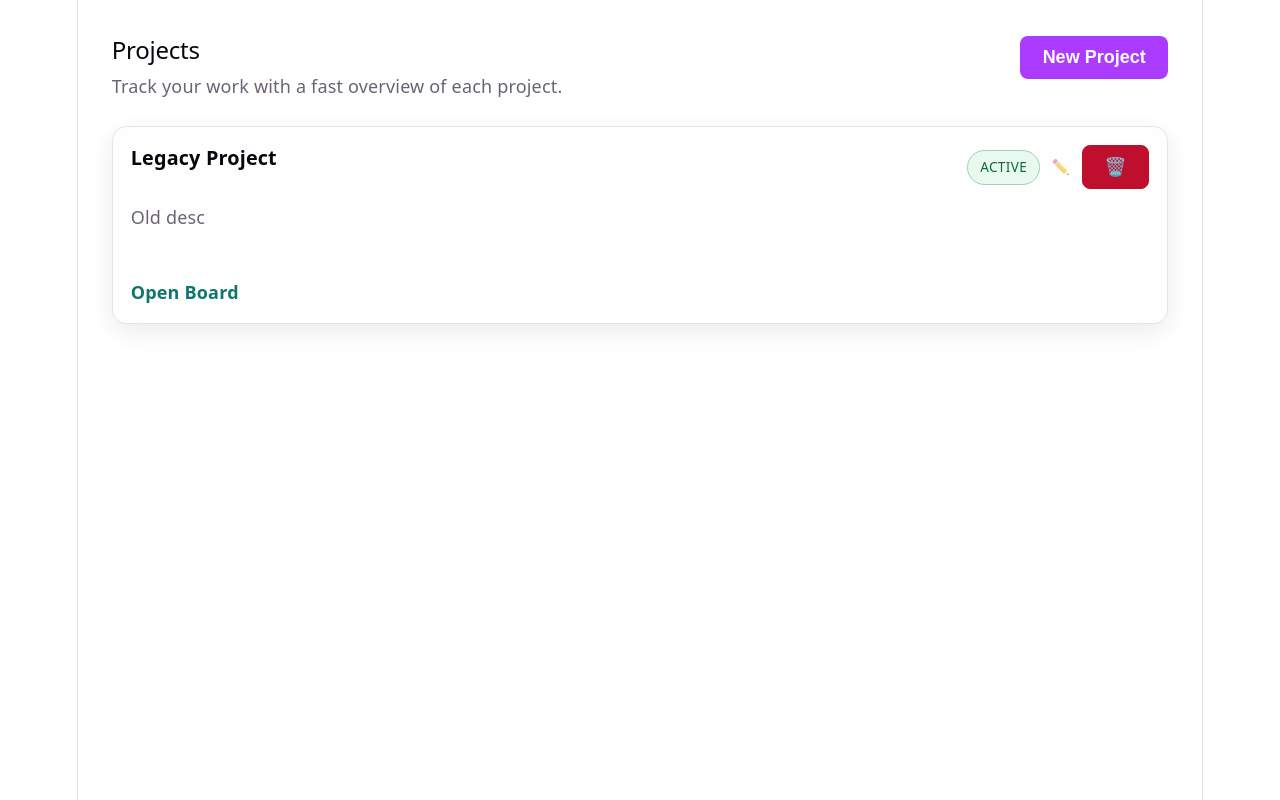
it: Dashboard › edits a project and updates the list
Expected: the heading "Legacy Project" is shown, 131,145 -> 277,172
Step 1. Click the button named "Edit Legacy Project" → [1061, 167], box 1047,157 -> 1074,177
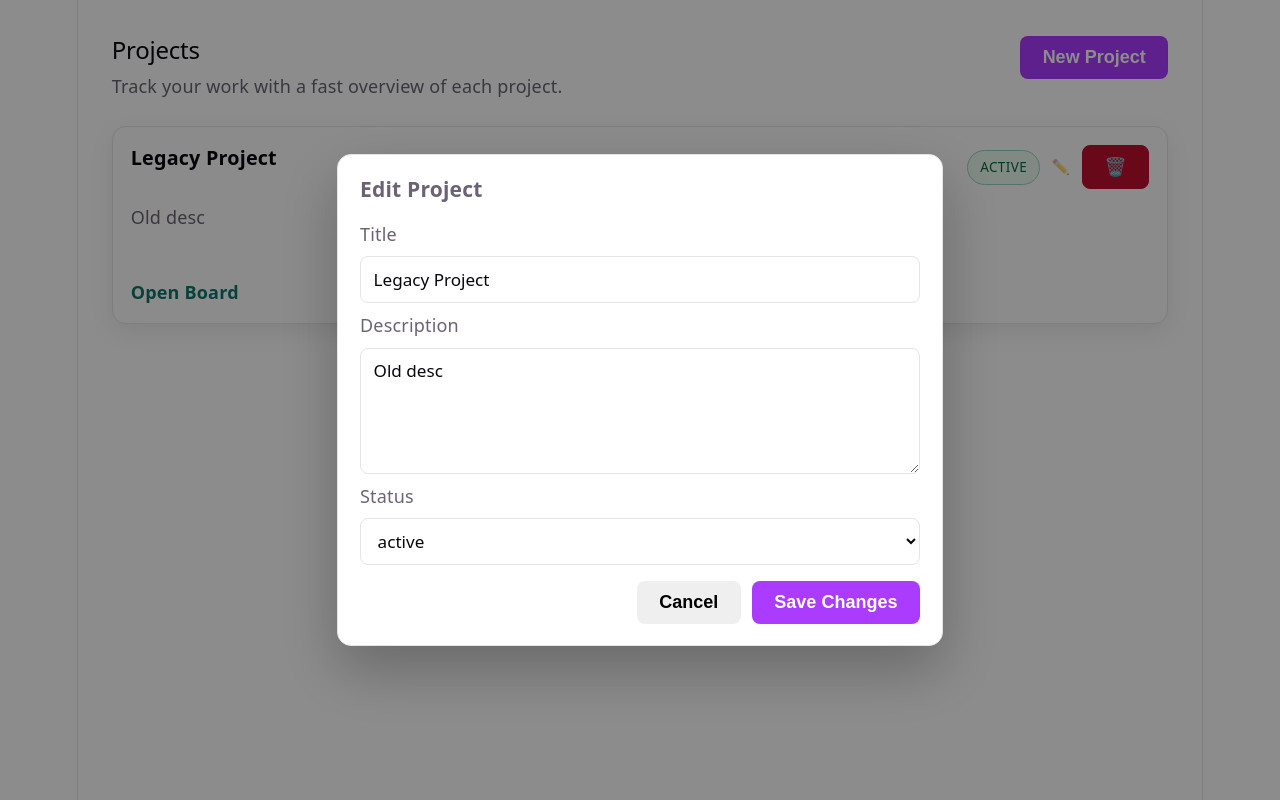
Step 2. Replace the text in the field labelled "Title" with "Updated Project" → [640, 280], box 360,256 -> 920,304
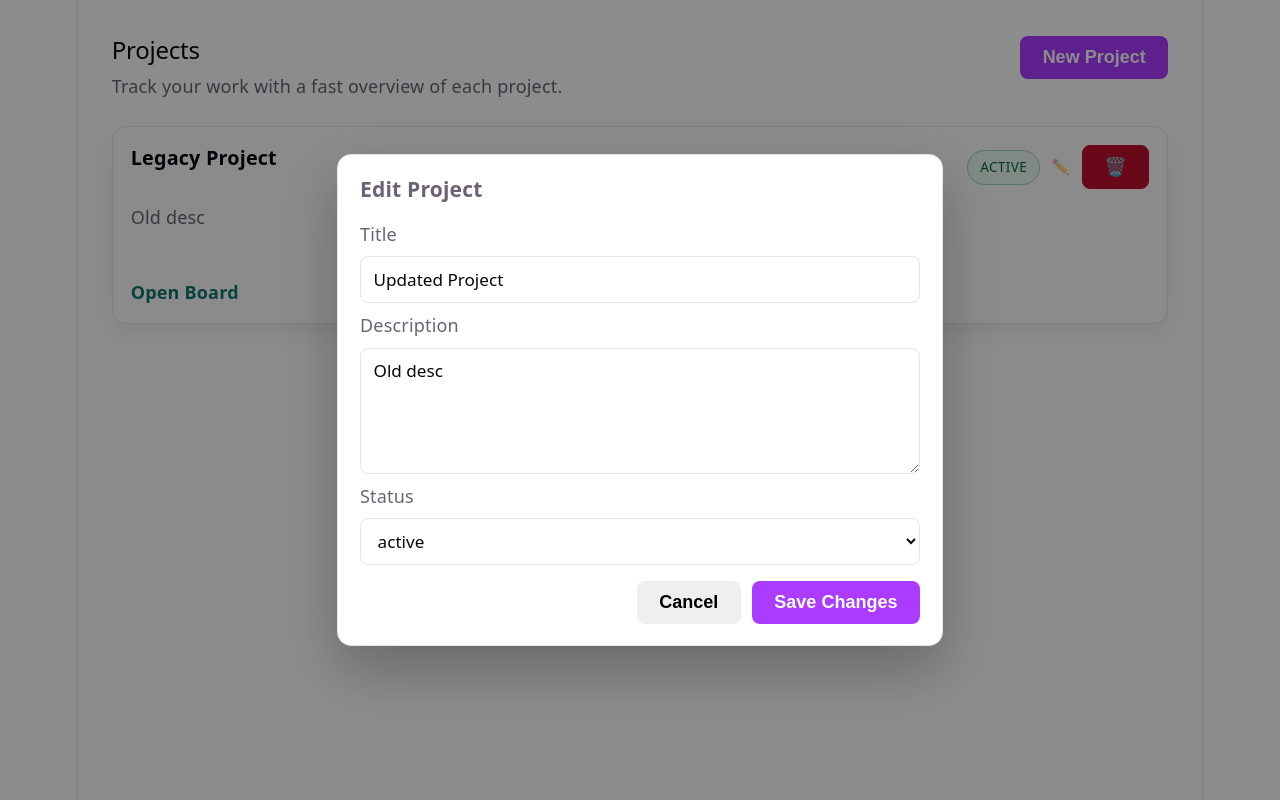
Step 3. Replace the text in the text box labelled "Description" with "Refined desc" → [640, 411], box 360,348 -> 920,474
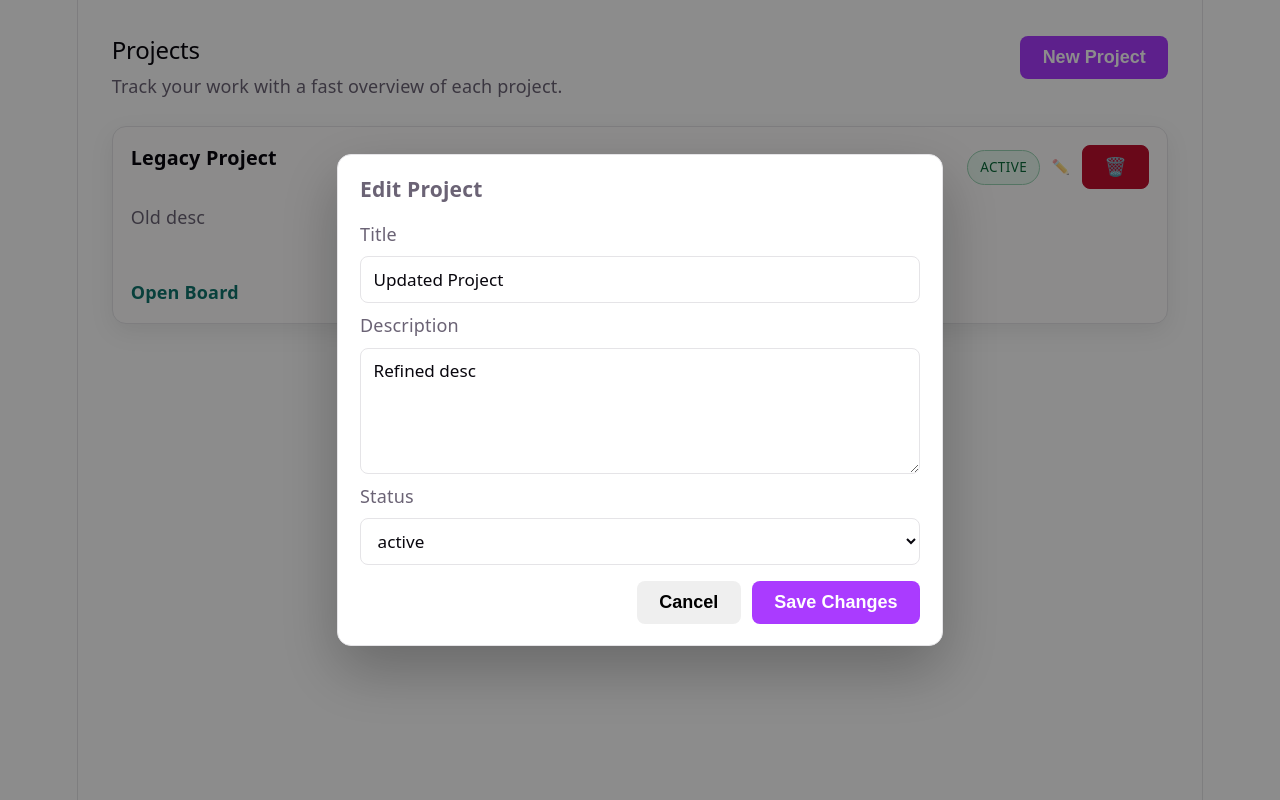
Step 4. Select "on-hold" in the dropdown labelled "Status" → [640, 541], box 360,518 -> 920,565
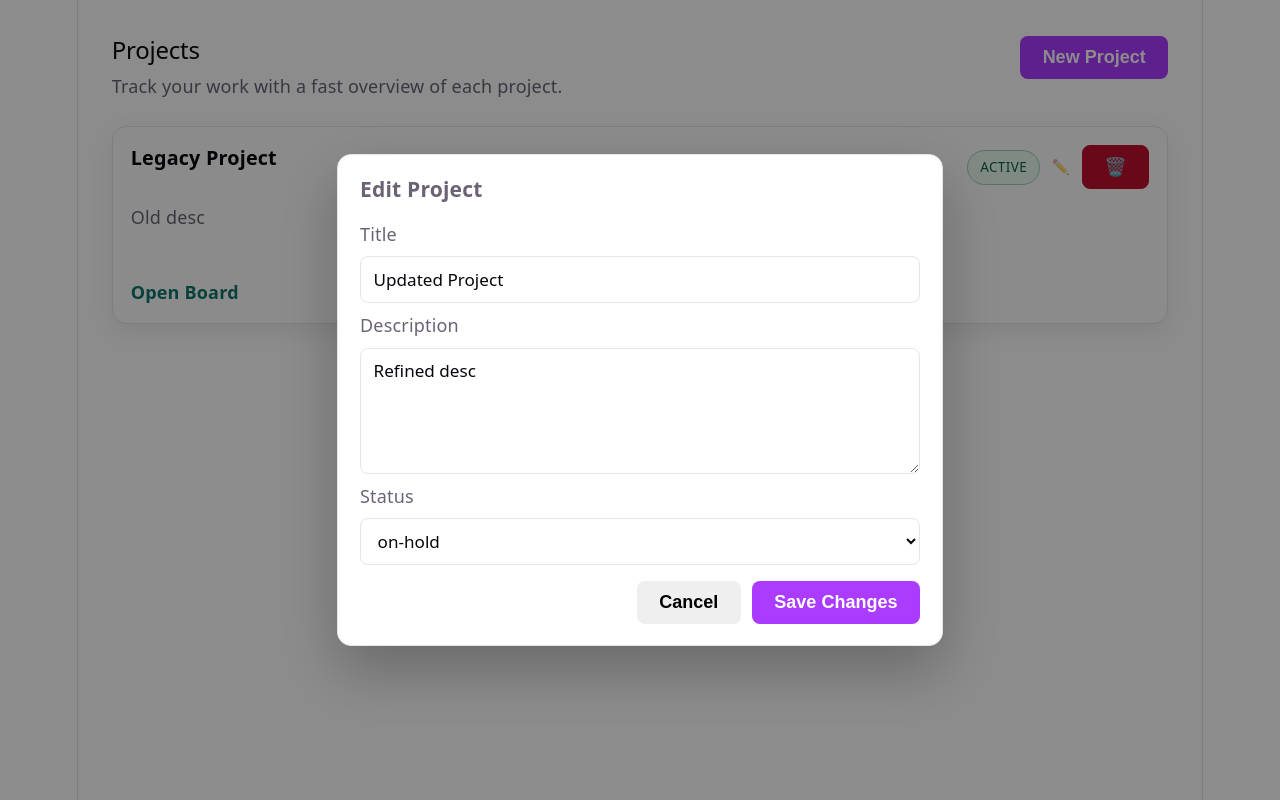
Step 5. Click the button "Save Changes" → [836, 602], box 752,581 -> 920,624
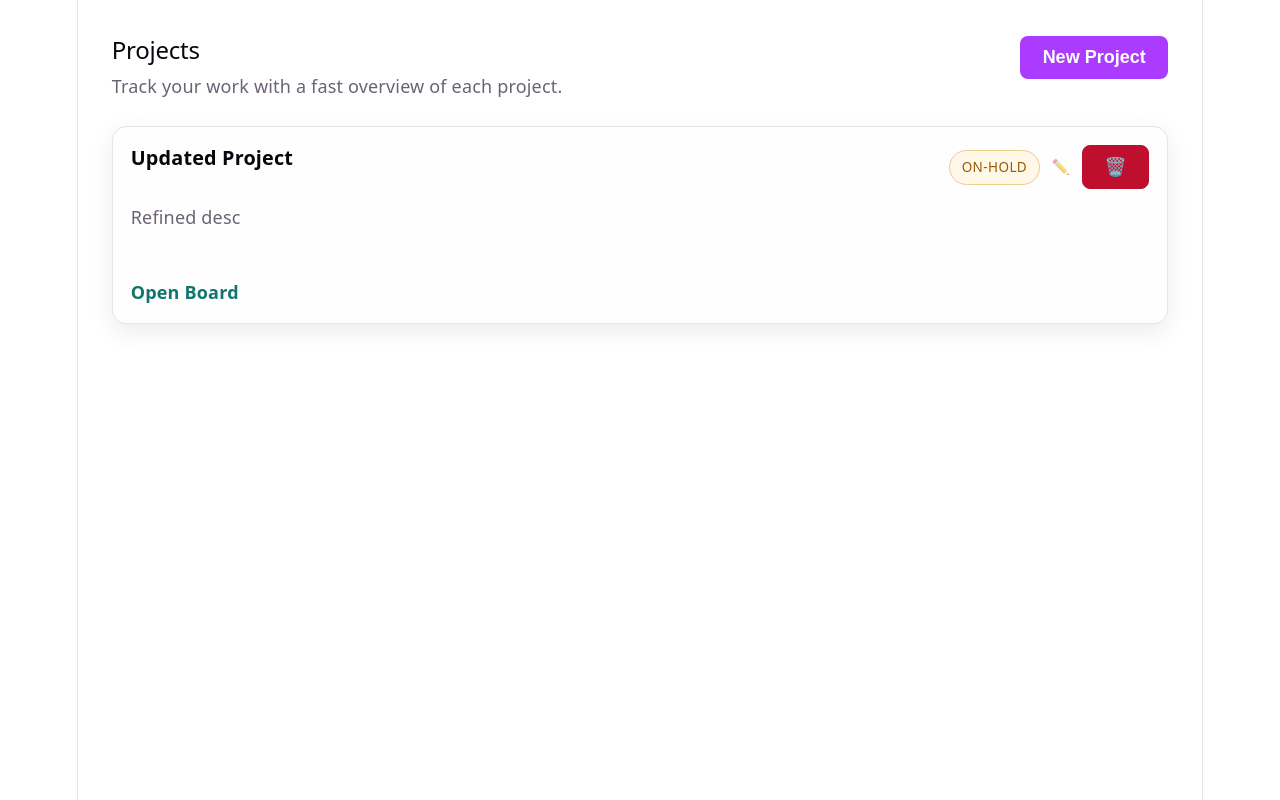
Result: the heading "Updated Project" is shown at 131,145 -> 293,172
